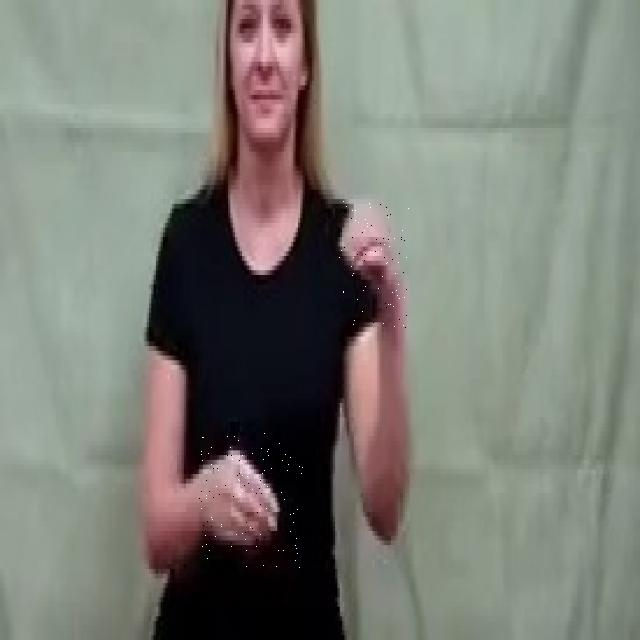ingredients: (200, 432, 304, 570), (337, 200, 409, 330)
